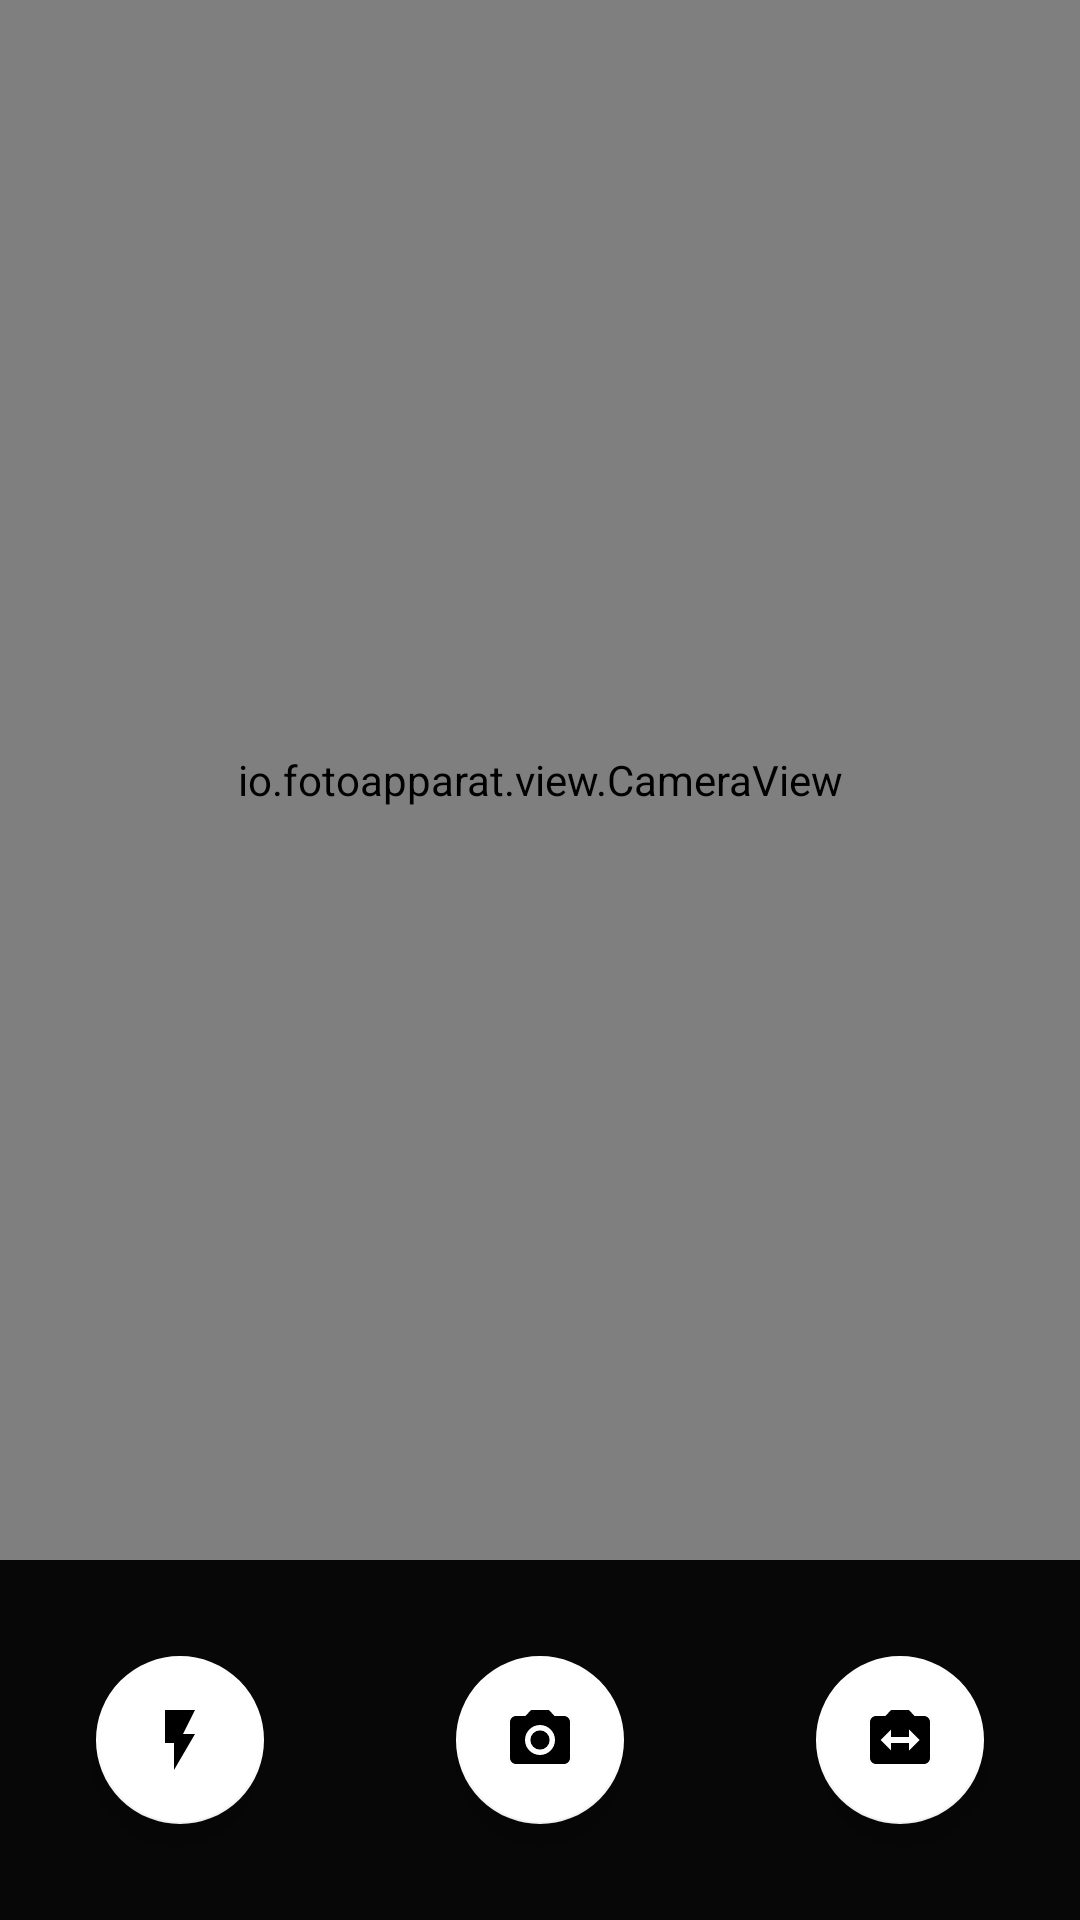

Named icons in this screenshot (1080 × 1920) and their bounding boxes, [x1=x1, y1=y1, x2=x2, y2=y2]:
flash: [x1=96, y1=1656, x2=264, y2=1824]
switch camera: [x1=816, y1=1656, x2=984, y2=1824]
